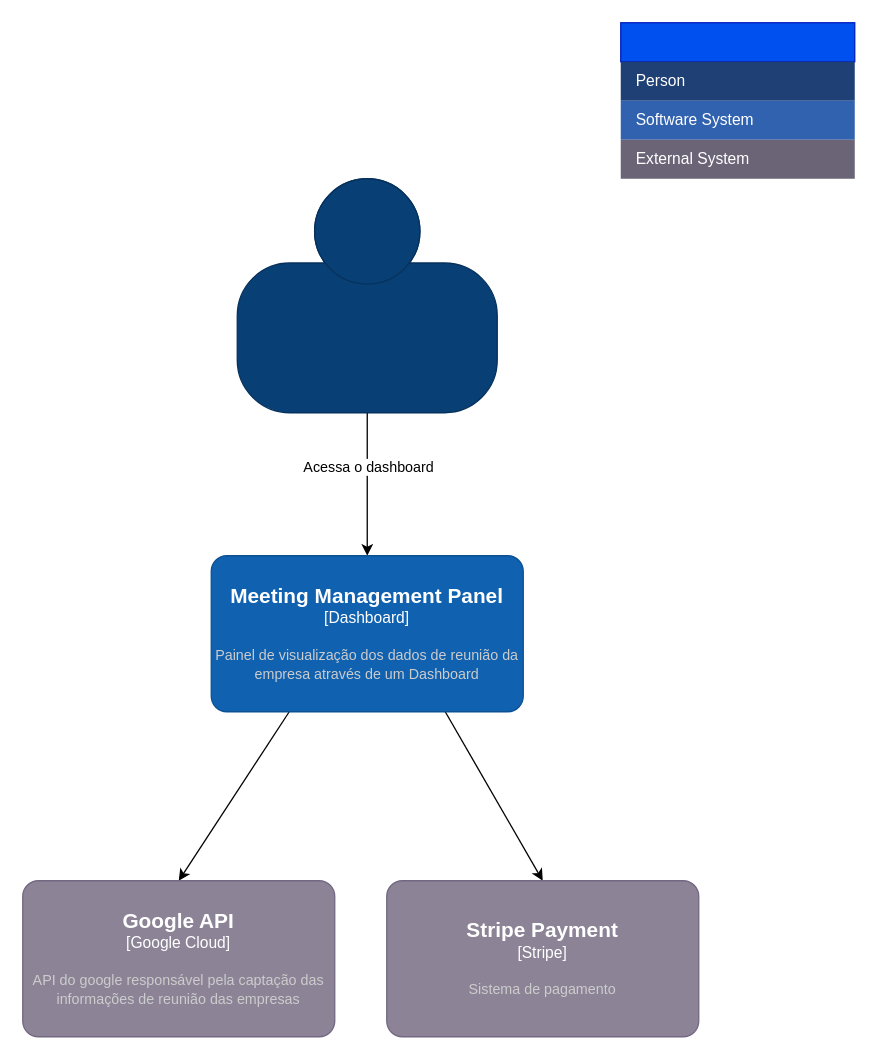
This 877x1060 diagram has some shape labels left out. The shapes that lost their labels are listed below. From the top down, each one's centre as x and y in pixels, then its label:
At [737,41]: "Legend".
At [366,295]: "Colaborador [Usuário] Responsável pela visualização do dashboard da empresa".
